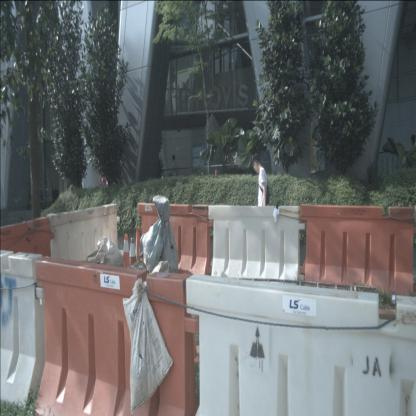human-pedestrian-adult: (251, 152, 270, 273), (169, 154, 179, 198), (408, 134, 416, 182)
movable_object-barrier: (186, 274, 416, 416), (34, 256, 202, 416), (300, 204, 416, 298), (0, 248, 55, 414), (208, 204, 305, 282), (137, 202, 214, 279), (46, 203, 121, 278), (0, 216, 55, 287)
movable_object-trafficcone: (133, 225, 142, 266), (121, 233, 131, 269), (128, 236, 138, 270)
